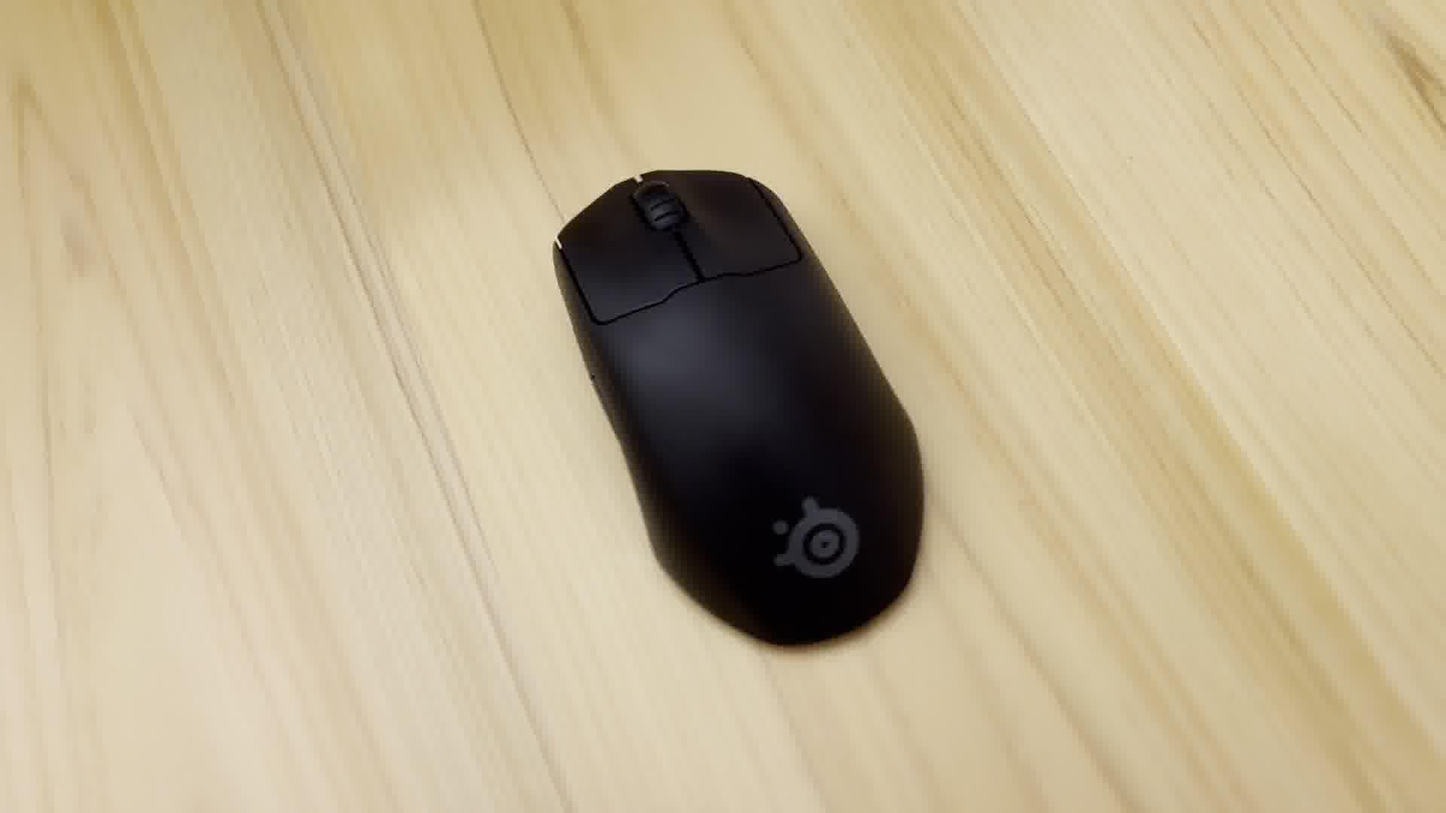steel-series: (543, 158, 942, 663)
